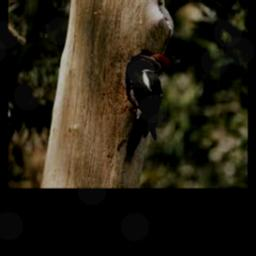Woodpecker: (124, 53, 170, 163)
